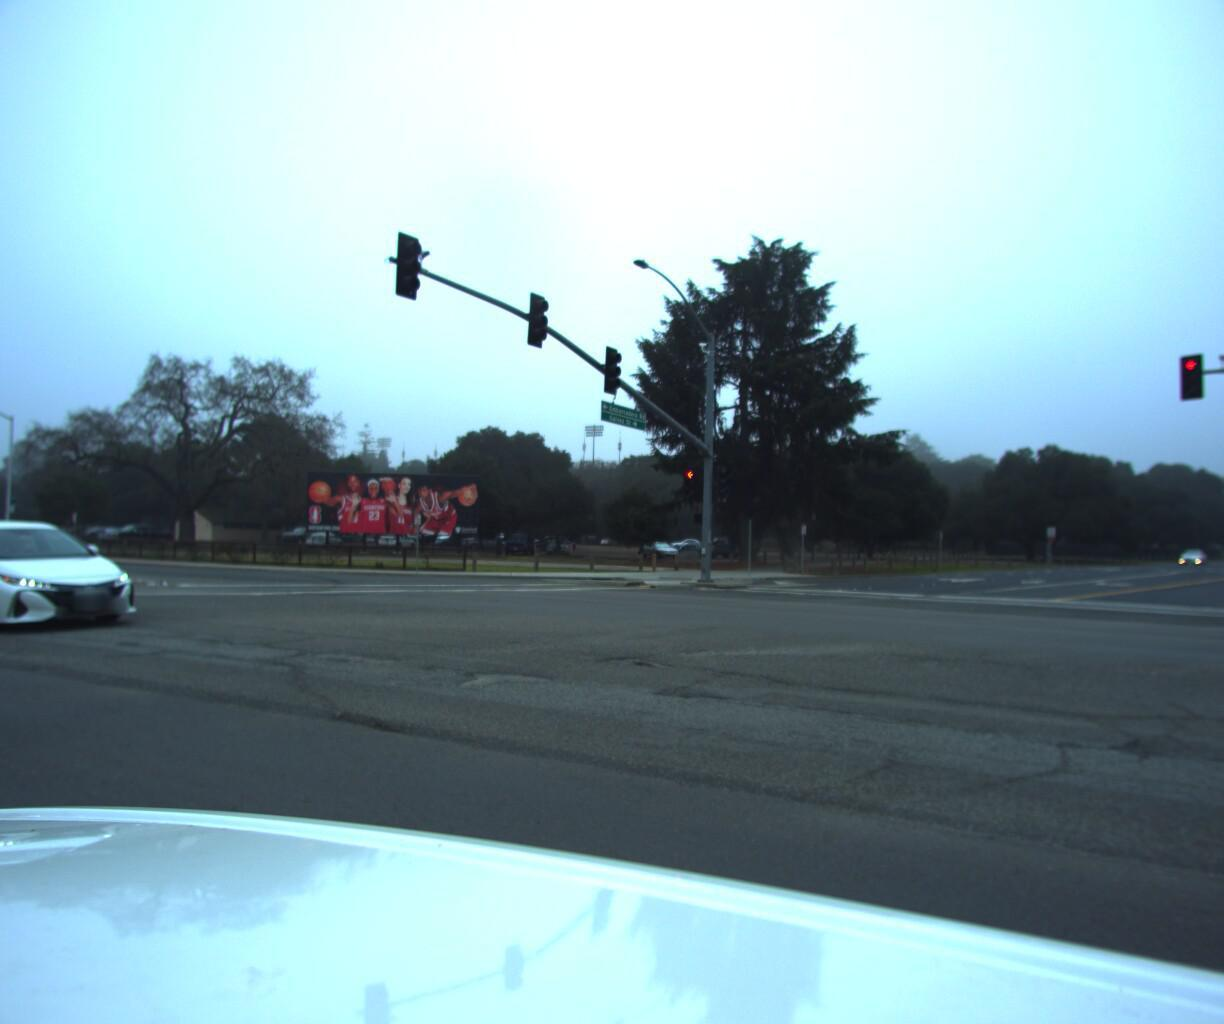car: (0, 513, 181, 641)
